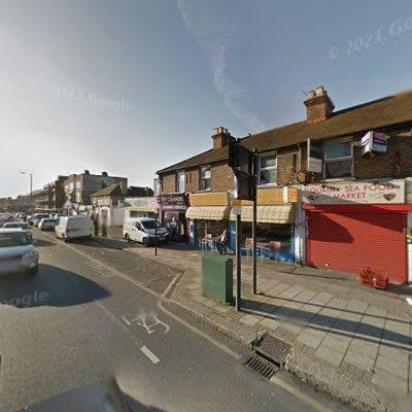moving-car: (0, 223, 42, 283), (1, 219, 34, 242), (0, 214, 15, 226)
stationary-car-onstreet: (38, 217, 58, 231)
stationary-light-truck-offstreet: (124, 217, 168, 244)
stationary-light-truck-onstreet: (54, 213, 96, 240)
